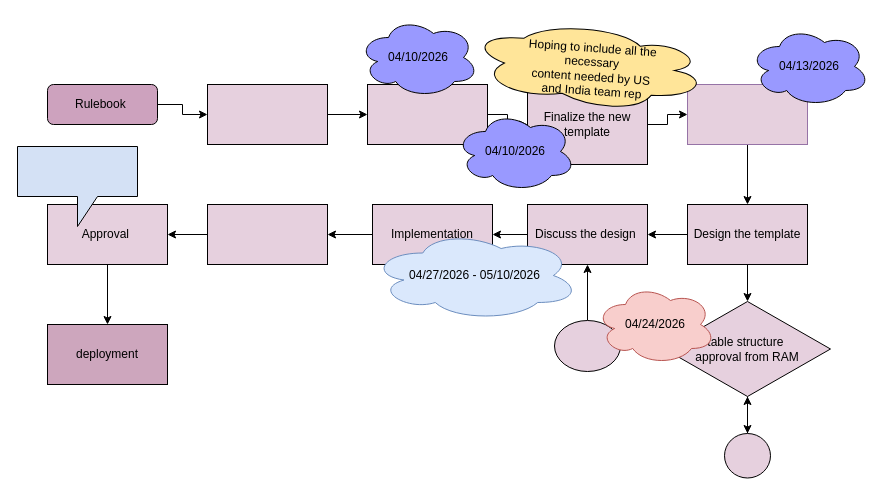
Image size: 887x496. Some labels were removed from this diagram. The centre of each missing label's shape, as x and y in pixels:
Discussion with DK to review and find out the missing: the point at 427,114
no: the point at 747,455
Present the new template to Venky and Senthil sir: the point at 747,114
review by US rep and TM (as per DK): the point at 267,234
Template received from shiva on 04/09/2026: the point at 267,114
Venky and Senthil sir: the point at 77,186
yes: the point at 587,346
